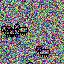sheep: (1, 26, 16, 37), (14, 24, 28, 35), (36, 46, 50, 57), (6, 27, 20, 37)
